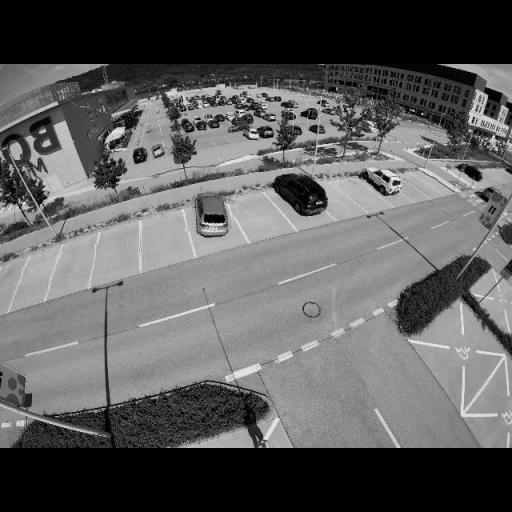busy: (186, 193, 236, 239), (272, 174, 328, 215), (360, 168, 404, 196), (460, 164, 486, 182), (129, 146, 148, 163), (230, 112, 253, 126), (148, 143, 166, 159), (244, 128, 262, 142), (226, 122, 248, 132), (302, 109, 320, 121), (258, 126, 275, 138), (194, 118, 208, 132), (260, 111, 279, 121), (180, 120, 194, 132), (280, 100, 296, 110), (208, 118, 220, 128)
free: (139, 223, 184, 257), (96, 238, 136, 274), (55, 253, 92, 288), (18, 264, 52, 296), (239, 202, 275, 226), (324, 194, 348, 214), (347, 187, 368, 199), (397, 184, 416, 197), (282, 152, 302, 164), (198, 140, 214, 150), (426, 176, 438, 188), (418, 184, 428, 194), (227, 136, 242, 142)
